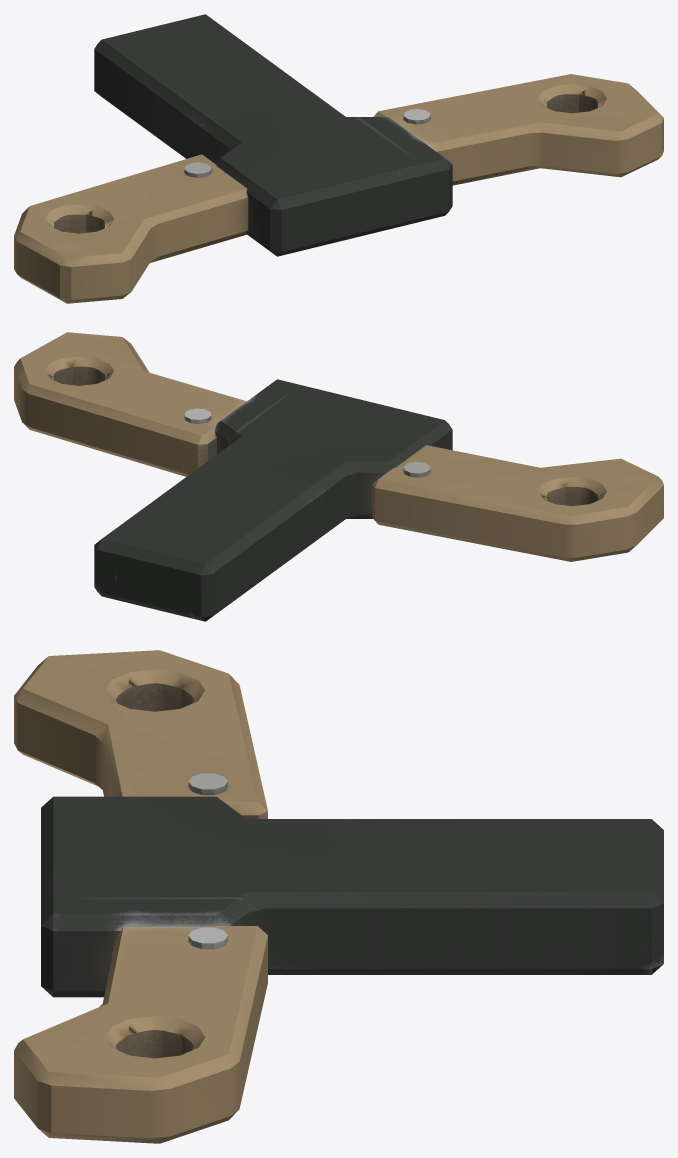
The model's file is alavanca_ambi_m4.glb.
3 views of the same model, one above another, from view 1: azimuth 30°, elevation 25°; view 2: azimuth 150°, elevation 25°; view 3: azimuth 270°, elevation 25° (orthographic). The views are drawn at different scales.
Visible parts, largest first — view 1: alavanca_ambi_m4_alavanca_ambi; view 2: alavanca_ambi_m4_alavanca_ambi; view 3: alavanca_ambi_m4_alavanca_ambi.
Boxes of the visible parts, x1,y1,x2,y2 form: alavanca_ambi_m4_alavanca_ambi: (14, 14, 663, 303); alavanca_ambi_m4_alavanca_ambi: (14, 332, 663, 621); alavanca_ambi_m4_alavanca_ambi: (14, 650, 663, 1143).
Size of the model in its own units: 0.0678 by 0.006 by 0.0428.
Materials: 1 (1 with a texture image).
